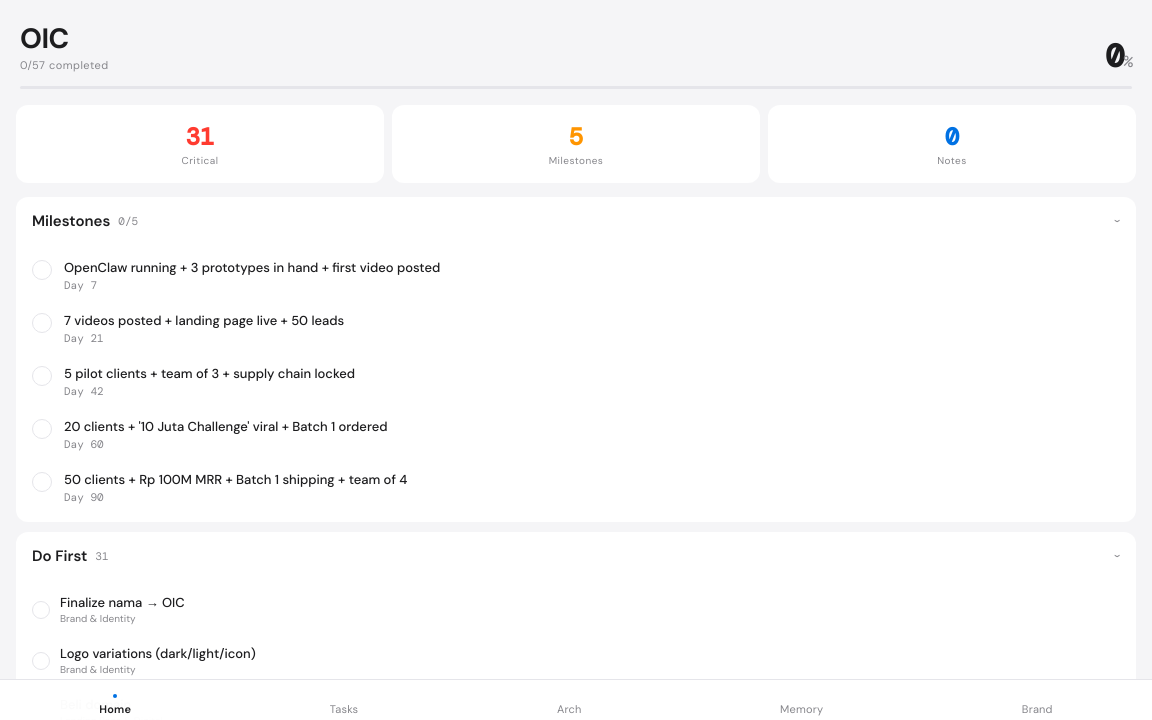
Test: App › switches to architecture tab on click
The width and height of the screenshot is (1152, 720).
What coordinates should you click on to do the following:
click the button "Arch"
I would click on:
 (569, 705)
Its box is [541,690,598,719].
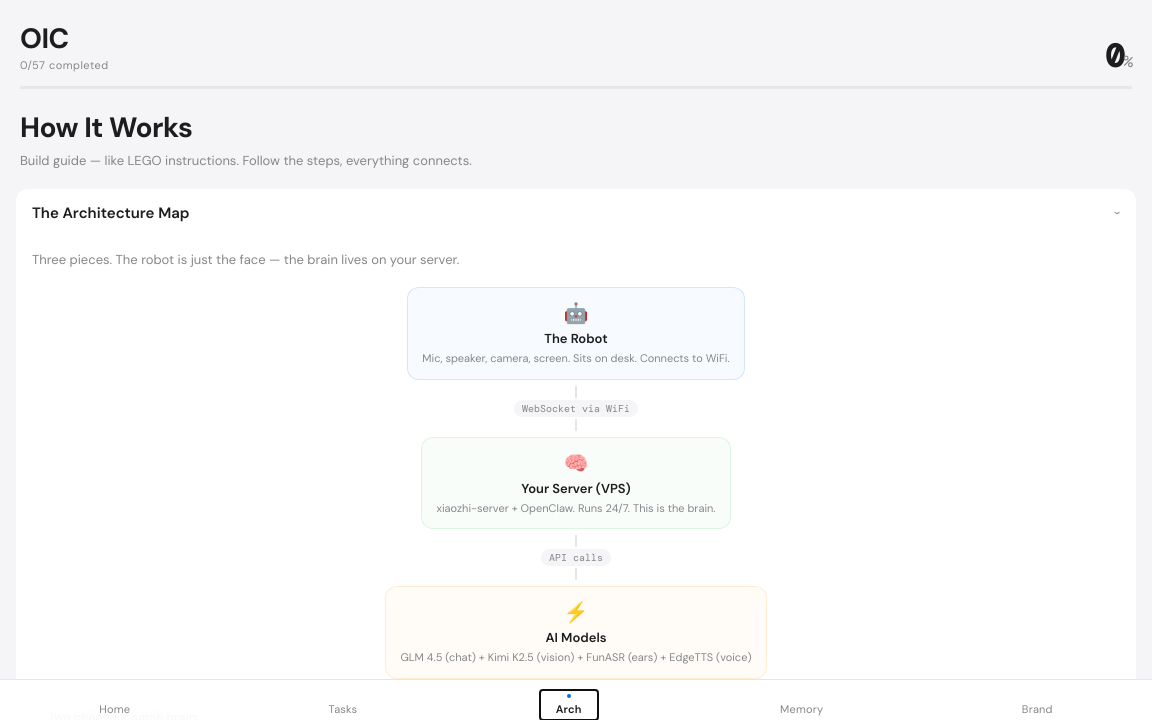
Expected: the heading "How It Works" is shown, [20,109,192,146]
